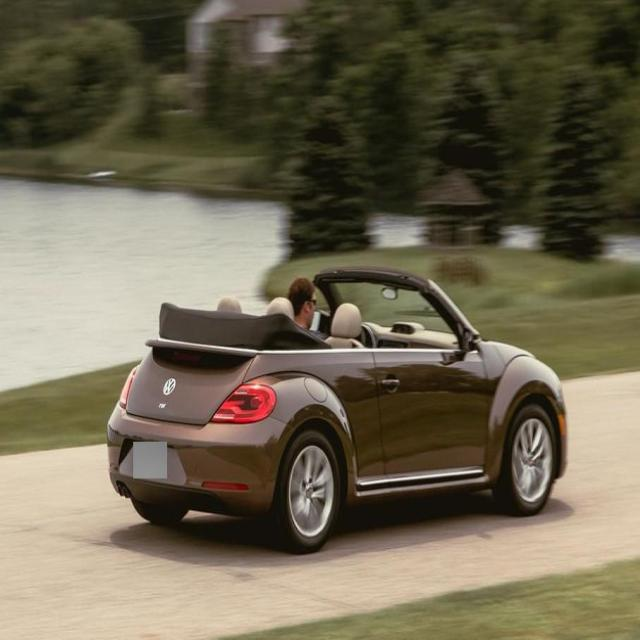back_left_side_light: (117, 360, 141, 414)
back_right_side_light: (206, 379, 278, 428)
front_glass: (314, 270, 464, 344)
front_right_side_door: (370, 330, 493, 485)
front_right_side_mirror: (450, 318, 474, 361)
rear_bumper: (106, 405, 288, 515)
wheel: (278, 431, 340, 547), (497, 402, 555, 513)
